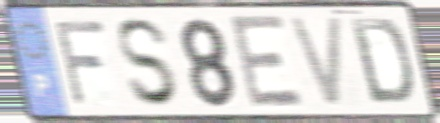8: (179, 16, 238, 110)
D: (347, 15, 415, 108)
E: (226, 12, 306, 112)
F: (52, 18, 109, 110)
S: (114, 16, 182, 110)
V: (285, 14, 346, 111)
